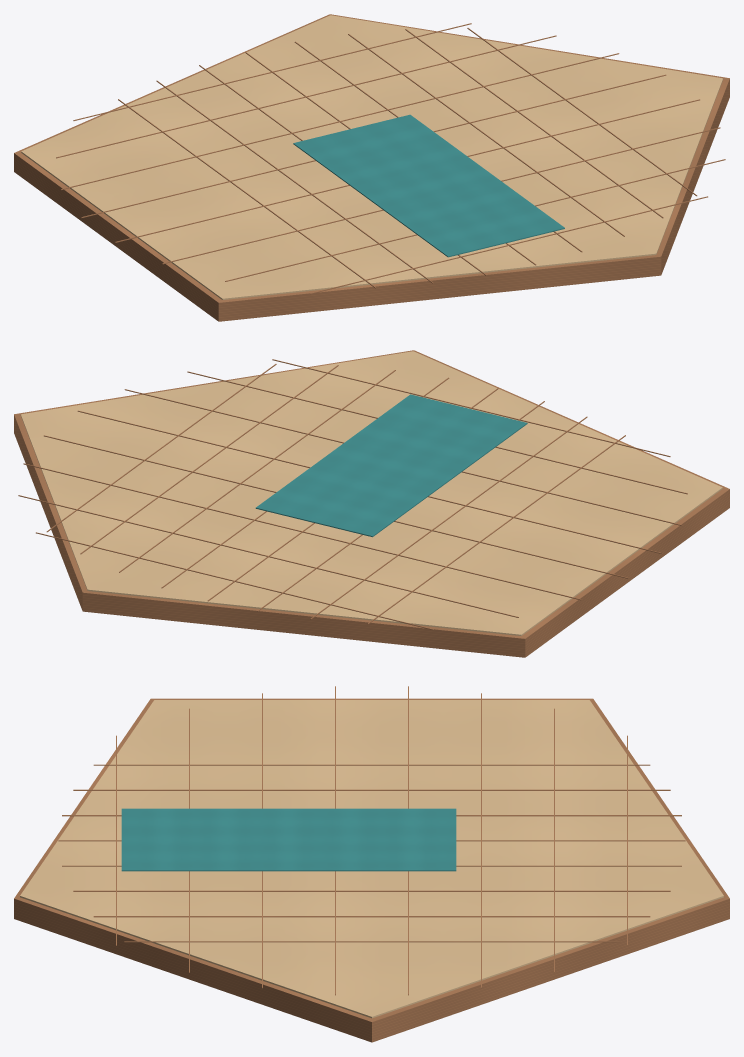
The model's file is atlas100-s096-a07.lod1.glb.
3 views of the same model, one above another, from view 1: azimuth 30°, elevation 25°; view 2: azimuth 150°, elevation 25°; view 3: azimuth 270°, elevation 25° (orthographic). The views are drawn at different scales.
Visible parts, largest first — view 1: atlas100-s096-a07:part-001, atlas100-s096-a07:part-000, atlas100-s096-a07:part-021, atlas100-s096-a07:part-015, atlas100-s096-a07:part-014, atlas100-s096-a07:part-017, atlas100-s096-a07:part-016, atlas100-s096-a07:part-018, atlas100-s096-a07:part-020, atlas100-s096-a07:part-013, atlas100-s096-a07:part-019, atlas100-s096-a07:part-005 (+3 smaller); view 2: atlas100-s096-a07:part-001, atlas100-s096-a07:part-000, atlas100-s096-a07:part-021, atlas100-s096-a07:part-015, atlas100-s096-a07:part-014, atlas100-s096-a07:part-016, atlas100-s096-a07:part-017, atlas100-s096-a07:part-018, atlas100-s096-a07:part-013, atlas100-s096-a07:part-020, atlas100-s096-a07:part-019, atlas100-s096-a07:part-005 (+3 smaller); view 3: atlas100-s096-a07:part-001, atlas100-s096-a07:part-021, atlas100-s096-a07:part-000, atlas100-s096-a07:part-005, atlas100-s096-a07:part-009, atlas100-s096-a07:part-004, atlas100-s096-a07:part-010, atlas100-s096-a07:part-011, atlas100-s096-a07:part-007.
Part boxes in pixels (bbox=[...]): atlas100-s096-a07:part-001: bbox=[21, 15, 723, 299]; atlas100-s096-a07:part-000: bbox=[14, 14, 729, 321]; atlas100-s096-a07:part-021: bbox=[293, 114, 564, 257]; atlas100-s096-a07:part-015: bbox=[61, 53, 619, 189]; atlas100-s096-a07:part-014: bbox=[56, 35, 556, 158]; atlas100-s096-a07:part-017: bbox=[115, 99, 699, 242]; atlas100-s096-a07:part-016: bbox=[81, 74, 666, 217]; atlas100-s096-a07:part-018: bbox=[162, 127, 720, 264]; atlas100-s096-a07:part-020: bbox=[310, 196, 707, 294]; atlas100-s096-a07:part-013: bbox=[73, 23, 471, 120]; atlas100-s096-a07:part-019: bbox=[225, 159, 725, 281]; atlas100-s096-a07:part-005: bbox=[156, 80, 433, 283]; atlas100-s096-a07:part-001: bbox=[20, 351, 722, 635]; atlas100-s096-a07:part-000: bbox=[14, 350, 729, 657]; atlas100-s096-a07:part-021: bbox=[255, 394, 527, 537]; atlas100-s096-a07:part-015: bbox=[23, 463, 581, 600]; atlas100-s096-a07:part-014: bbox=[18, 495, 518, 617]; atlas100-s096-a07:part-016: bbox=[44, 435, 628, 578]; atlas100-s096-a07:part-017: bbox=[77, 410, 662, 553]; atlas100-s096-a07:part-018: bbox=[124, 389, 682, 525]; atlas100-s096-a07:part-013: bbox=[36, 532, 433, 630]; atlas100-s096-a07:part-020: bbox=[272, 359, 670, 456]; atlas100-s096-a07:part-019: bbox=[187, 371, 687, 494]; atlas100-s096-a07:part-005: bbox=[310, 416, 587, 619]; atlas100-s096-a07:part-001: bbox=[20, 700, 723, 1018]; atlas100-s096-a07:part-021: bbox=[121, 808, 456, 871]; atlas100-s096-a07:part-000: bbox=[14, 698, 729, 1042]; atlas100-s096-a07:part-005: bbox=[73, 789, 670, 790]; atlas100-s096-a07:part-009: bbox=[73, 890, 670, 891]; atlas100-s096-a07:part-004: bbox=[93, 764, 650, 765]; atlas100-s096-a07:part-010: bbox=[93, 916, 650, 917]; atlas100-s096-a07:part-011: bbox=[124, 941, 619, 942]; atlas100-s096-a07:part-007: bbox=[58, 840, 685, 841].
Size of the model in its own units: 11.87 by 0.404 by 10.78.
3 materials, 3 textured.
